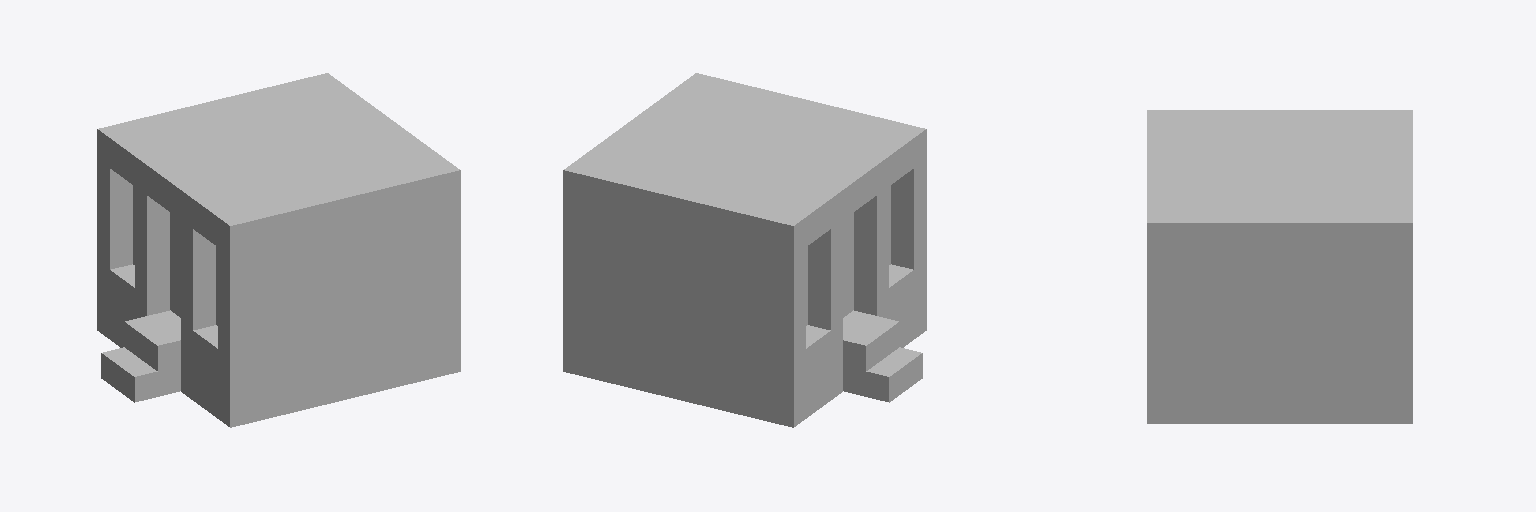
3 renders of one model, left to right at view 1: azimuth 30°, elevation 25°; view 2: azimuth 150°, elevation 25°; view 3: azimuth 270°, elevation 25°, orthographic.
Parts seen in each view (by area): view 1: G-__555771_G-__555771_Brick, G-__555771_G-__555771_Dark_brick, G-__555771_G-__555771_Glass; view 2: G-__555771_G-__555771_Brick, G-__555771_G-__555771_Dark_brick, G-__555771_G-__555771_Glass; view 3: G-__555771_G-__555771_Brick, G-__555771_G-__555771_Dark_brick.
Boxes of the visible parts, x1,y1,x2,y2 form: G-__555771_G-__555771_Brick: [97, 73, 460, 376]; G-__555771_G-__555771_Dark_brick: [97, 280, 460, 427]; G-__555771_G-__555771_Glass: [133, 185, 217, 325]; G-__555771_G-__555771_Brick: [563, 73, 926, 376]; G-__555771_G-__555771_Dark_brick: [563, 280, 926, 427]; G-__555771_G-__555771_Glass: [806, 185, 890, 325]; G-__555771_G-__555771_Brick: [1147, 110, 1412, 372]; G-__555771_G-__555771_Dark_brick: [1147, 373, 1412, 423].
Bounding box in the file's own units: 1.2 × 0.8375 × 1.